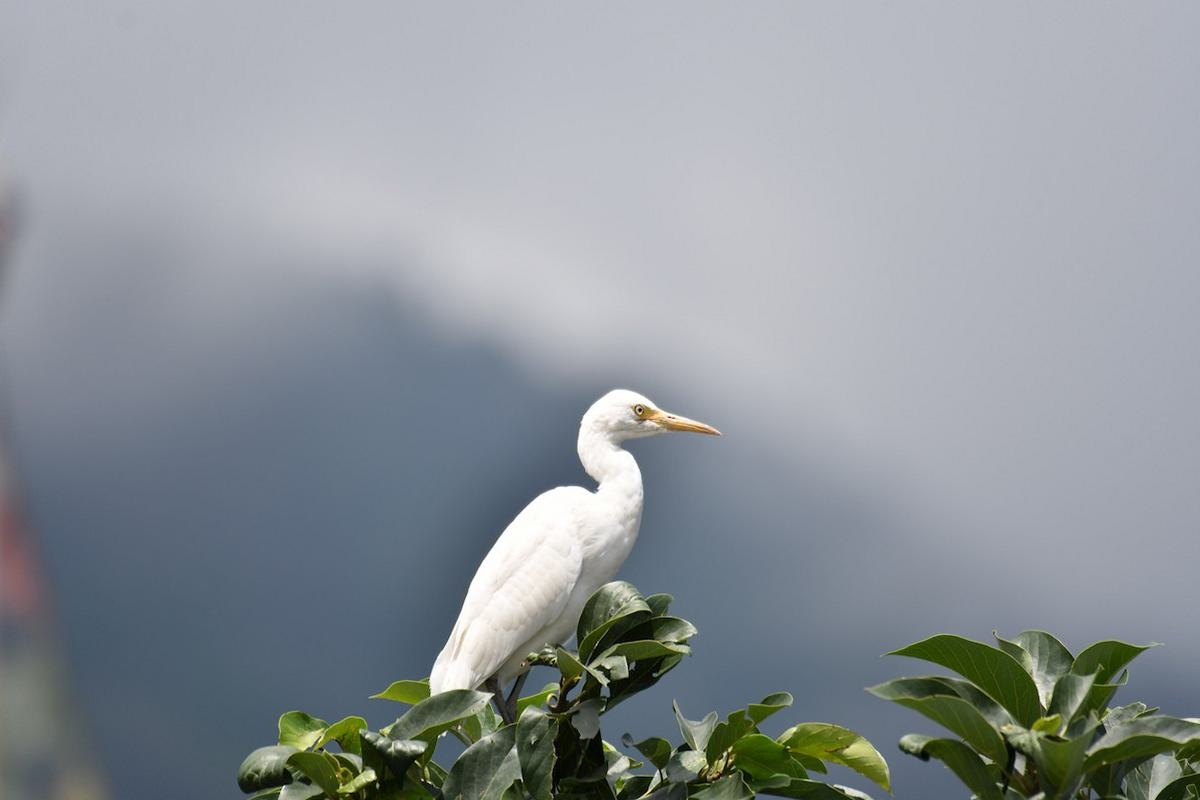egret: (395, 374, 733, 717)
